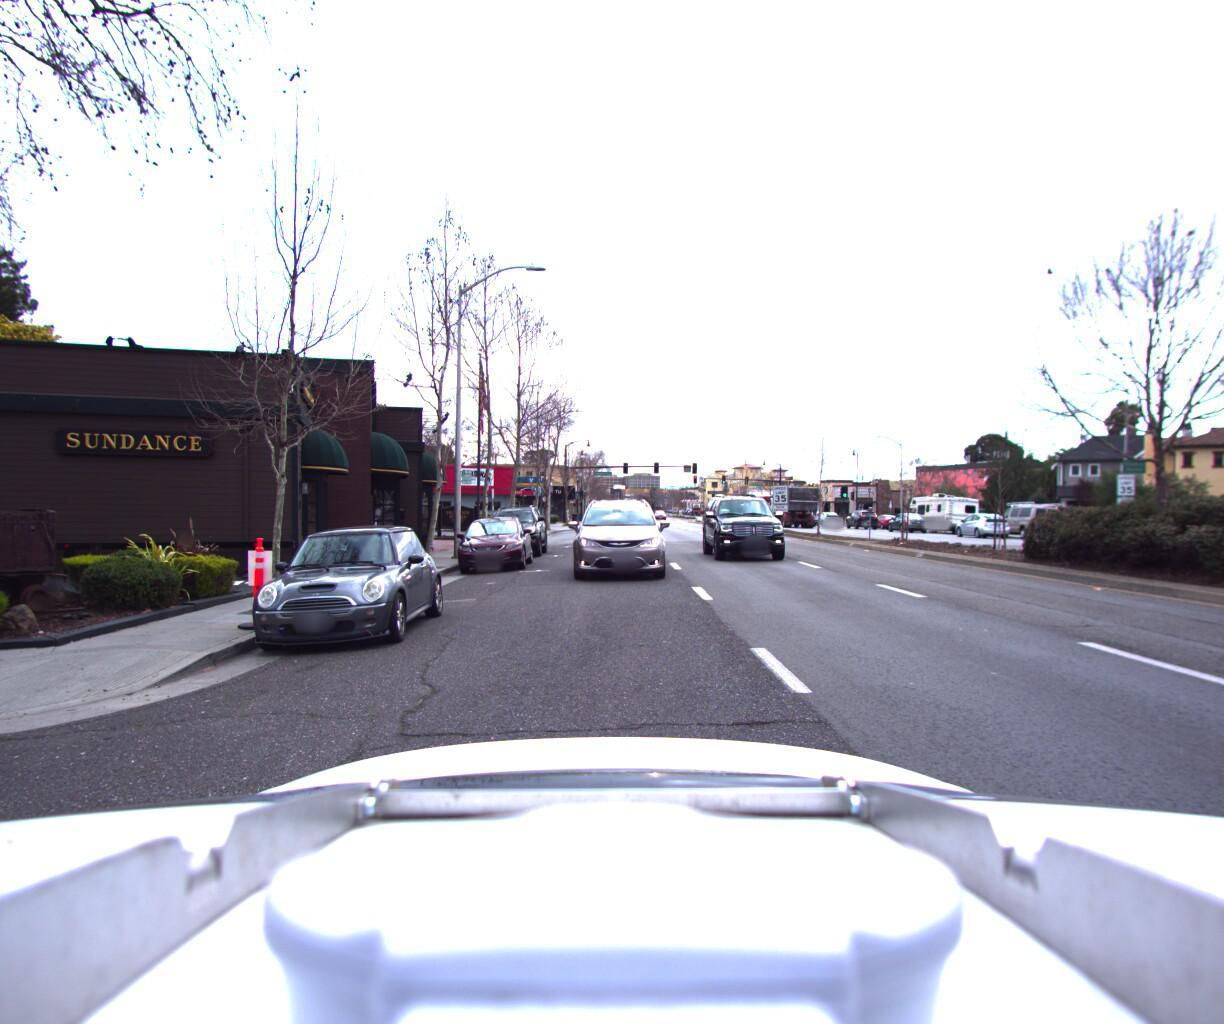car: (234, 515, 447, 664), (562, 486, 662, 582), (701, 485, 800, 564), (449, 510, 535, 573), (478, 500, 550, 560), (950, 509, 1009, 536), (883, 509, 928, 531), (841, 506, 877, 527), (812, 508, 840, 524)
other_vehicle: (904, 486, 981, 533)
truck: (988, 497, 1063, 539), (762, 480, 822, 524)
